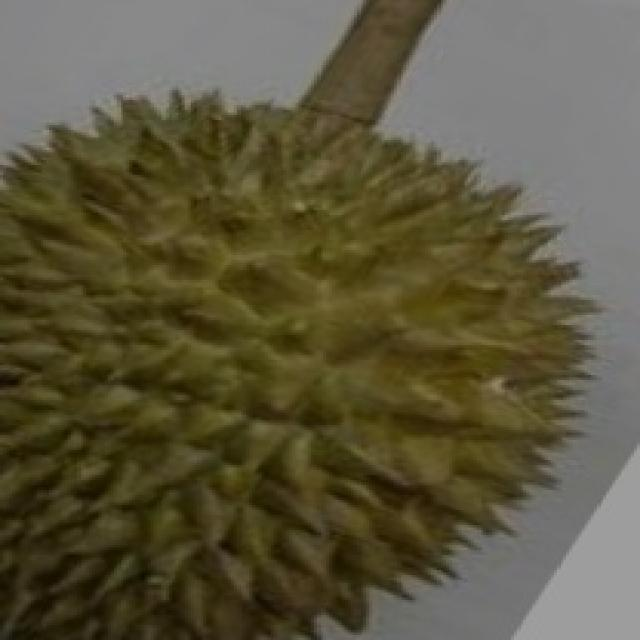fruit: (249, 220, 640, 632), (0, 247, 387, 640)
